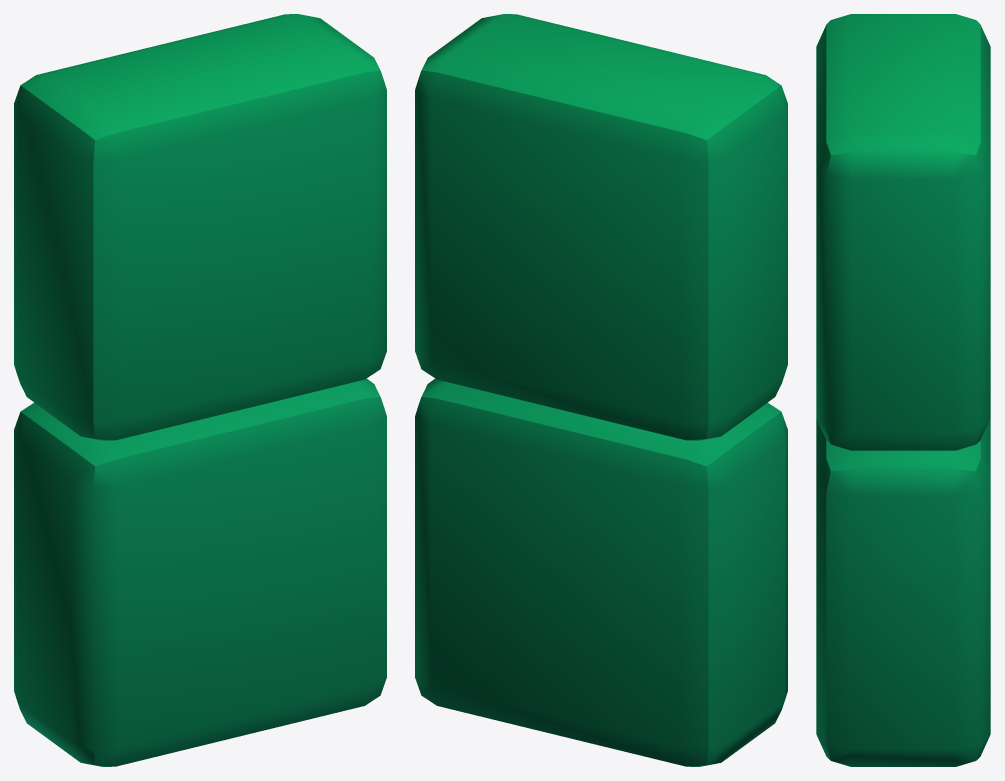
File: barrier_2x1x4_green.glb
3 views of the same model, side by side, from view 1: azimuth 30°, elevation 25°; view 2: azimuth 150°, elevation 25°; view 3: azimuth 270°, elevation 25° (orthographic). The views are drawn at different scales.
Visible parts, largest first — view 1: barrier_2x1x4_green; view 2: barrier_2x1x4_green; view 3: barrier_2x1x4_green.
Boxes of the visible parts, <box> form: barrier_2x1x4_green: <box>14,14,386,766</box>; barrier_2x1x4_green: <box>415,14,787,766</box>; barrier_2x1x4_green: <box>816,14,990,766</box>.
Bounding box in the file's own units: 2 × 4 × 1.
Materials: 1 (1 with a texture image).
